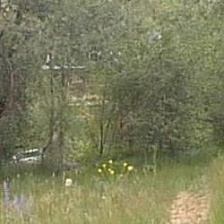neutral: (4, 3, 217, 220)
